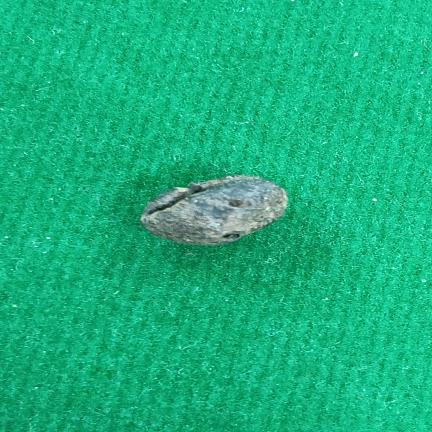partial-black: (140, 175, 287, 245)
